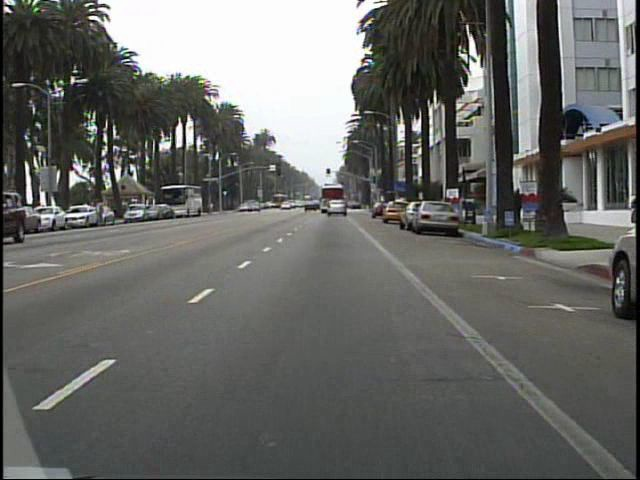person: (510, 182, 529, 231)
